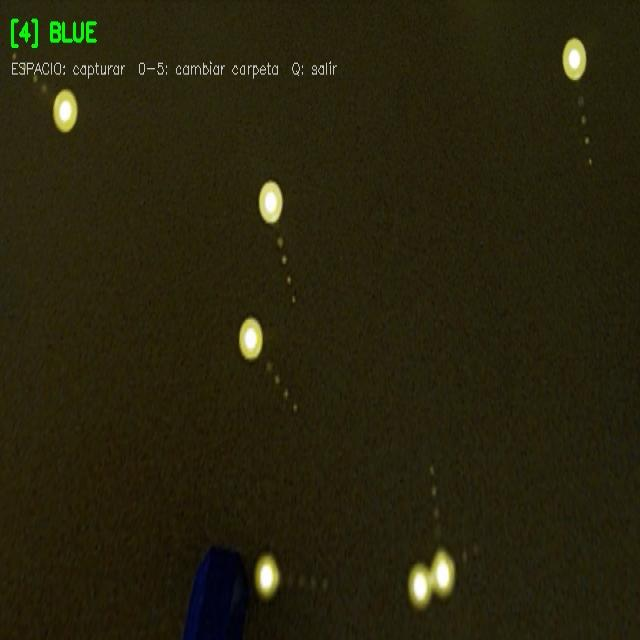blue: (183, 539, 251, 639)
